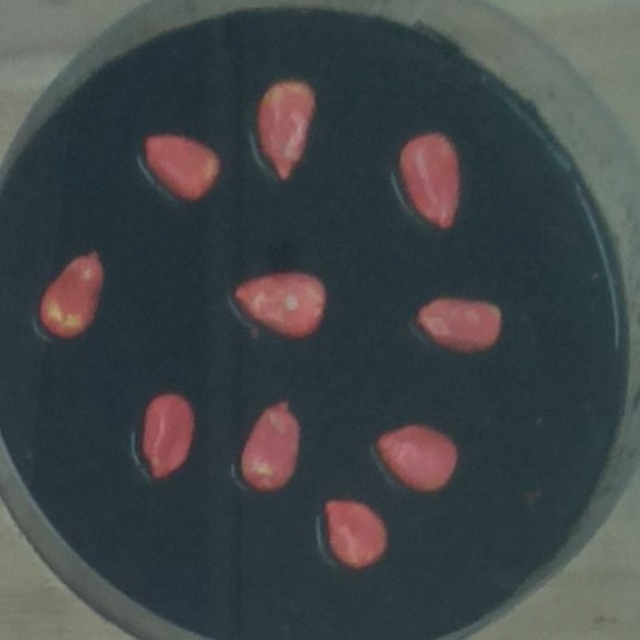Zea mays: (227, 264, 332, 346), (364, 414, 464, 499), (250, 72, 323, 186), (392, 126, 467, 235), (33, 241, 110, 344), (234, 393, 308, 498), (138, 123, 228, 205), (409, 288, 509, 359), (133, 384, 200, 488), (317, 491, 395, 576)
